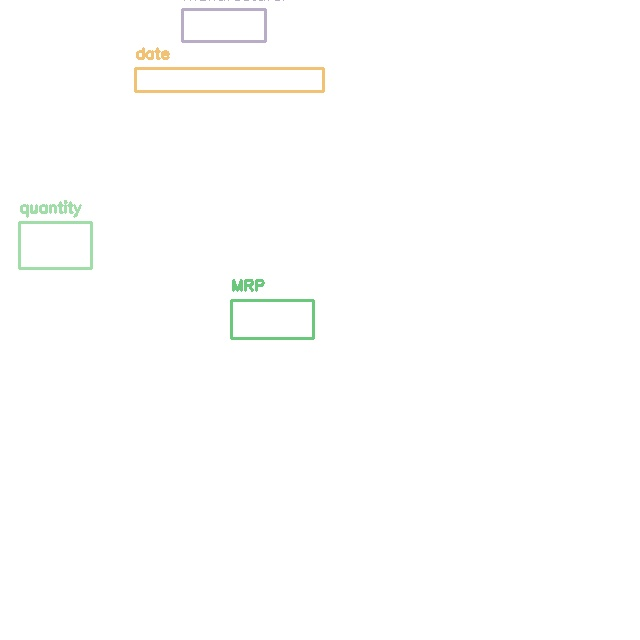MRP: (231, 300, 313, 338)
date: (135, 68, 323, 91)
manufacturer: (182, 9, 265, 41)
quantity: (19, 222, 91, 268)
